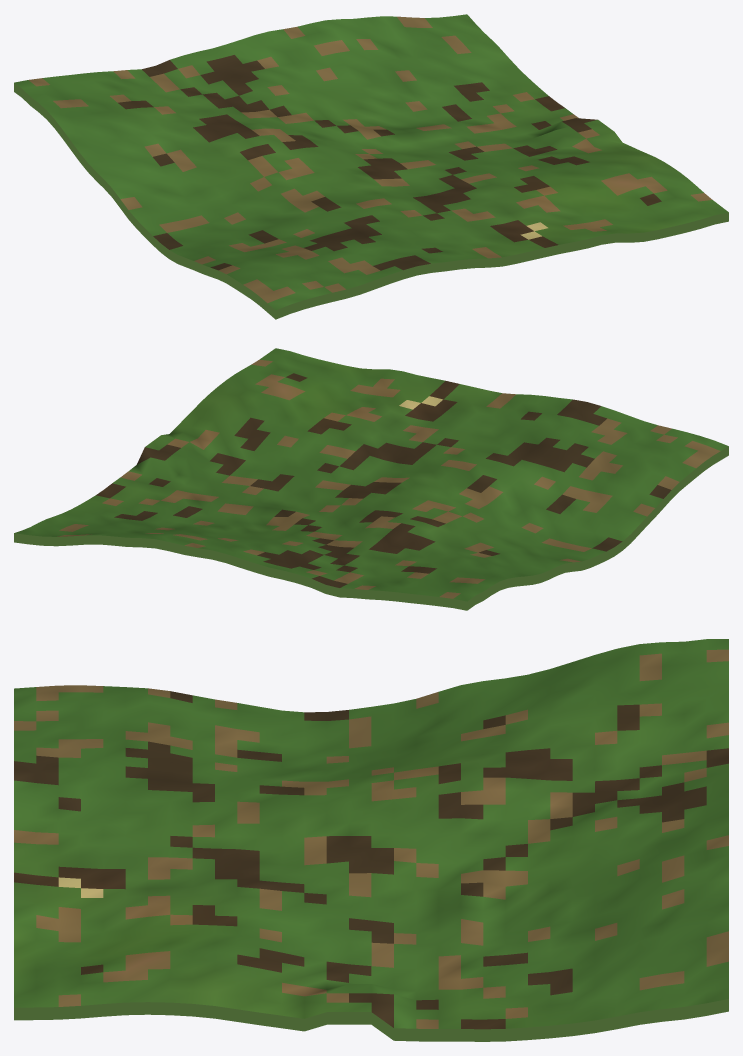
File: chunk_1_6_lod1.glb
3 renders of one model, top to bottom at view 1: azimuth 30°, elevation 25°; view 2: azimuth 150°, elevation 25°; view 3: azimuth 270°, elevation 25°, orthographic. The views are drawn at different scales.
Parts seen in each view (by area): view 1: Surface_Grass, Surface_Dirt, Surface_Mud, Skirt; view 2: Surface_Grass, Surface_Mud, Surface_Dirt, Skirt; view 3: Surface_Grass, Surface_Dirt, Surface_Mud, Skirt.
Boxes of the visible parts, <box> form: Surface_Grass: <box>14,14,728,310</box>; Surface_Dirt: <box>28,16,712,303</box>; Surface_Mud: <box>118,55,661,270</box>; Skirt: <box>14,83,728,319</box>; Surface_Grass: <box>14,348,728,601</box>; Surface_Mud: <box>96,373,671,587</box>; Surface_Dirt: <box>57,359,720,598</box>; Skirt: <box>14,446,728,610</box>; Surface_Grass: <box>14,639,728,1028</box>; Surface_Dirt: <box>14,649,728,1028</box>; Surface_Mud: <box>14,691,728,1029</box>; Skirt: <box>14,999,728,1041</box>.
Size of the model in its own units: 256 by 39.82 by 256.
